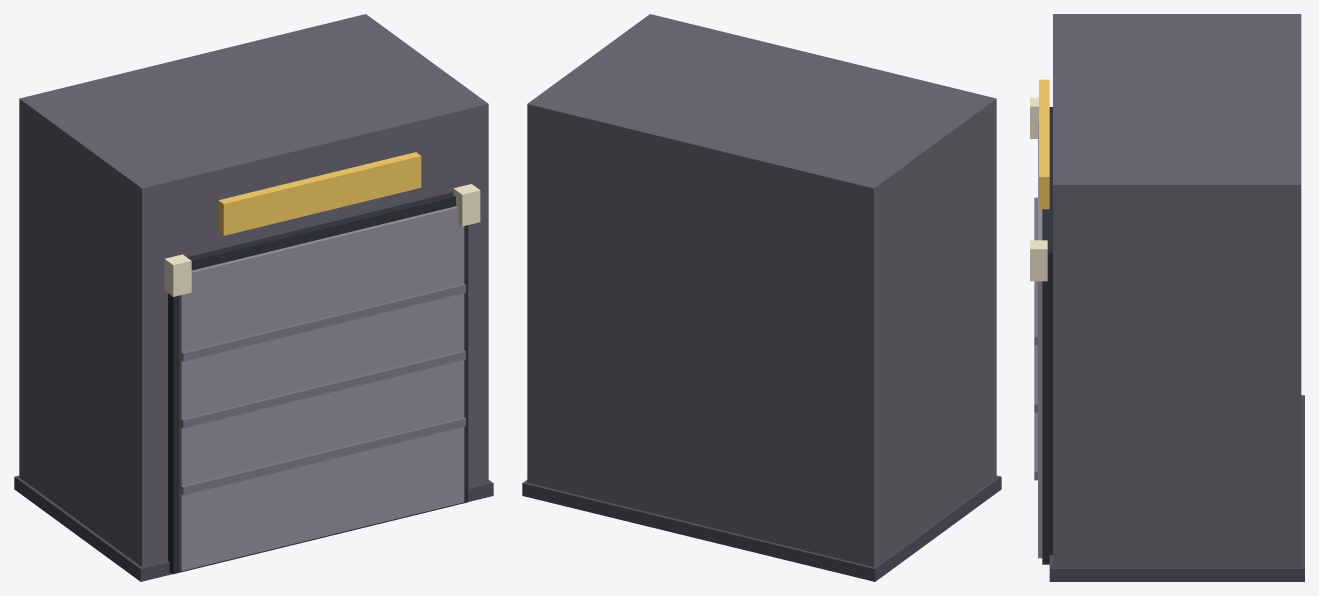
File: garaje.gltf
3 renders of one model, left to right at view 1: azimuth 30°, elevation 25°; view 2: azimuth 150°, elevation 25°; view 3: azimuth 270°, elevation 25°, orthographic.
Parts seen in each view (by area): view 1: cuerpo, puerta_basculante, hueco, rotulo, nervio_1, nervio_3, nervio_2, zocalo, farol_izq, farol_der; view 2: cuerpo, zocalo; view 3: cuerpo, zocalo, hueco, puerta_basculante, rotulo, farol_der, nervio_3, farol_izq.
Boxes of the visible parts, box(x1,y1,x2,y2) form: cuerpo: box(19, 14, 488, 566); puerta_basculante: box(179, 206, 464, 571); hueco: box(168, 192, 468, 574); rotulo: box(218, 152, 421, 235); nervio_1: box(180, 417, 465, 495); nervio_3: box(180, 283, 465, 361); nervio_2: box(180, 350, 465, 428); zocalo: box(14, 475, 493, 581); farol_izq: box(164, 254, 191, 296); farol_der: box(453, 184, 480, 226); cuerpo: box(527, 14, 996, 566); zocalo: box(522, 475, 1001, 581); cuerpo: box(1053, 14, 1301, 567); zocalo: box(1049, 395, 1304, 581); hueco: box(1042, 107, 1052, 564); puerta_basculante: box(1038, 122, 1042, 558); rotulo: box(1039, 79, 1049, 209); farol_der: box(1030, 240, 1047, 281); nervio_3: box(1034, 197, 1038, 345); farol_izq: box(1030, 97, 1038, 138).
Size of the model in its own units: 2.32 by 2.46 by 1.55.
